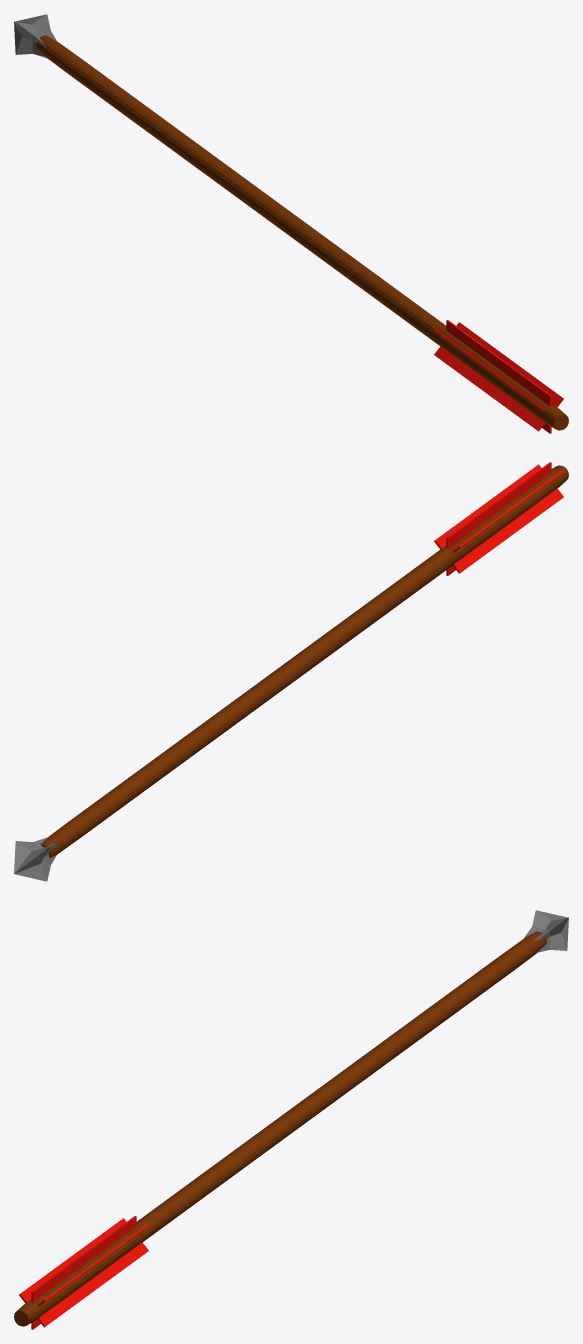
File: arrow.fbx
3 renders of one model, top to bottom at view 1: azimuth 30°, elevation 25°; view 2: azimuth 150°, elevation 25°; view 3: azimuth 330°, elevation 25°, orthographic.
Visible parts, largest first — view 1: Cube.001; view 2: Cube.001; view 3: Cube.001.
Part boxes in pixels (box(x1,y1,x2,y2)): Cube.001: box(14, 14, 568, 433); Cube.001: box(14, 462, 568, 881); Cube.001: box(14, 910, 568, 1329).
Size of the model in its own units: 3.52 by 4 by 106.
